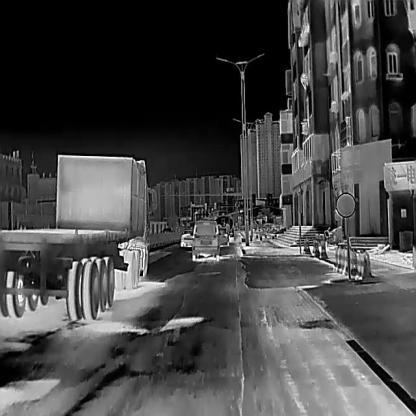car: (0, 155, 156, 320), (192, 219, 219, 261), (180, 229, 192, 247), (218, 228, 229, 246)
